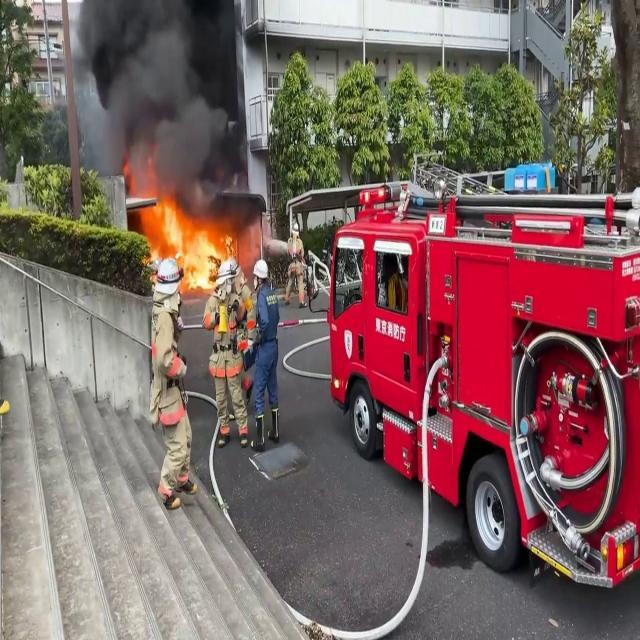Fire: (132, 191, 240, 287)
Smoke: (61, 1, 256, 199)
